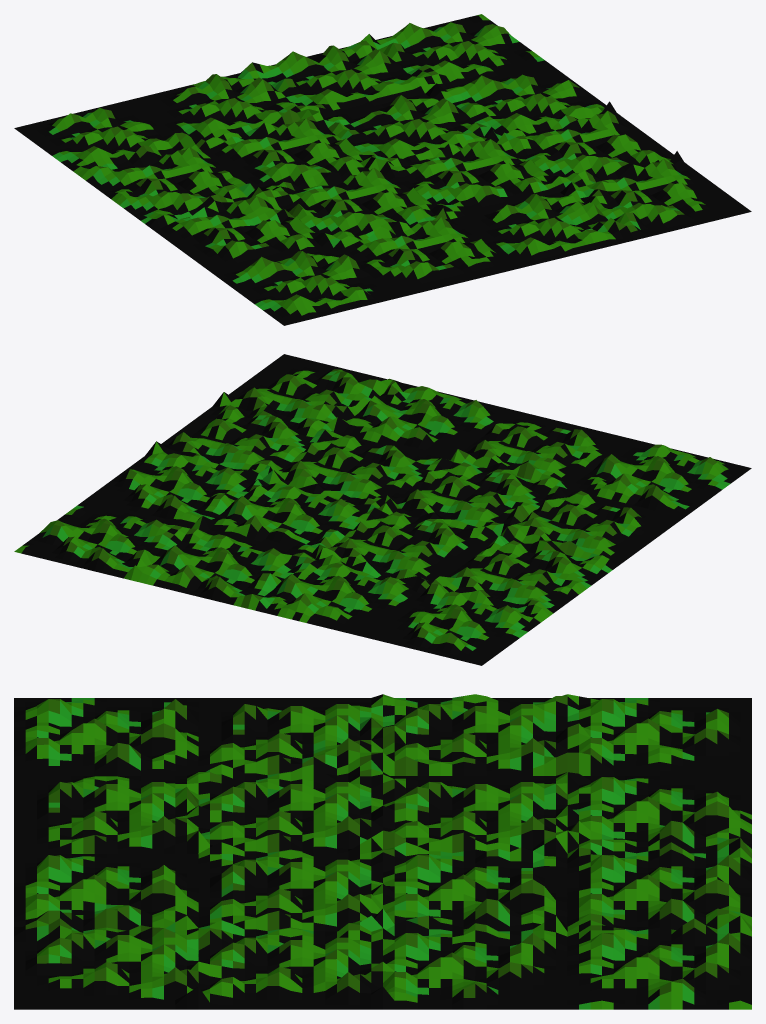
Rendered from forest.glb.
3 views of the same model, one above another, from view 1: azimuth 30°, elevation 25°; view 2: azimuth 150°, elevation 25°; view 3: azimuth 270°, elevation 25° (orthographic). The views are drawn at different scales.
Parts seen in each view (by area): view 1: forest3, forest1, forest11, forest2, forest9, forest0, forest7, forest10, forest5, forest15, forest8, forest6 (+4 smaller); view 2: forest6, forest4, forest14, forest12, forest2, forest7, forest10, forest5, forest0, forest15, forest8, forest3 (+4 smaller); view 3: forest9, forest8, forest13, forest12, forest15, forest14, forest5, forest11, forest1, forest4, forest0, forest10 (+4 smaller).
Part boxes in pixels (left/top/right/bottom): forest3: left=149, top=187, right=333, bottom=276; forest1: left=334, top=208, right=517, bottom=297; forest11: left=387, top=130, right=565, bottom=219; forest2: left=451, top=182, right=634, bottom=268; forest9: left=572, top=151, right=751, bottom=240; forest0: left=217, top=248, right=400, bottom=325; forest7: left=199, top=109, right=375, bottom=190; forest10: left=252, top=34, right=430, bottom=117; forest5: left=81, top=137, right=257, bottom=226; forest15: left=270, top=158, right=448, bottom=247; forest8: left=369, top=14, right=548, bottom=88; forest6: left=131, top=62, right=308, bottom=147; forest6: left=248, top=548, right=429, bottom=637; forest4: left=365, top=576, right=548, bottom=665; forest14: left=199, top=470, right=379, bottom=559; forest12: left=82, top=441, right=262, bottom=529; forest2: left=333, top=380, right=517, bottom=460; forest7: left=315, top=498, right=497, bottom=584; forest10: left=131, top=528, right=313, bottom=608; forest5: left=440, top=527, right=616, bottom=616; forest0: left=568, top=439, right=751, bottom=517; forest15: left=385, top=449, right=566, bottom=535; forest8: left=14, top=502, right=189, bottom=580; forest3: left=501, top=486, right=683, bottom=566; forest9: left=14, top=915, right=198, bottom=1009; forest8: left=567, top=915, right=751, bottom=1009; forest13: left=198, top=915, right=382, bottom=1009; forest12: left=383, top=915, right=567, bottom=1009; forest15: left=198, top=759, right=382, bottom=853; forest14: left=383, top=838, right=567, bottom=931; forest5: left=383, top=694, right=567, bottom=775; forest11: left=198, top=837, right=382, bottom=931; forest1: left=14, top=772, right=198, bottom=853; forest4: left=567, top=694, right=751, bottom=775; forest0: left=14, top=698, right=198, bottom=775; forest10: left=567, top=837, right=751, bottom=931.
Bounding box in the file's own units: 4 × 0.1398 × 4.
Materials: 1 (1 with a texture image).
